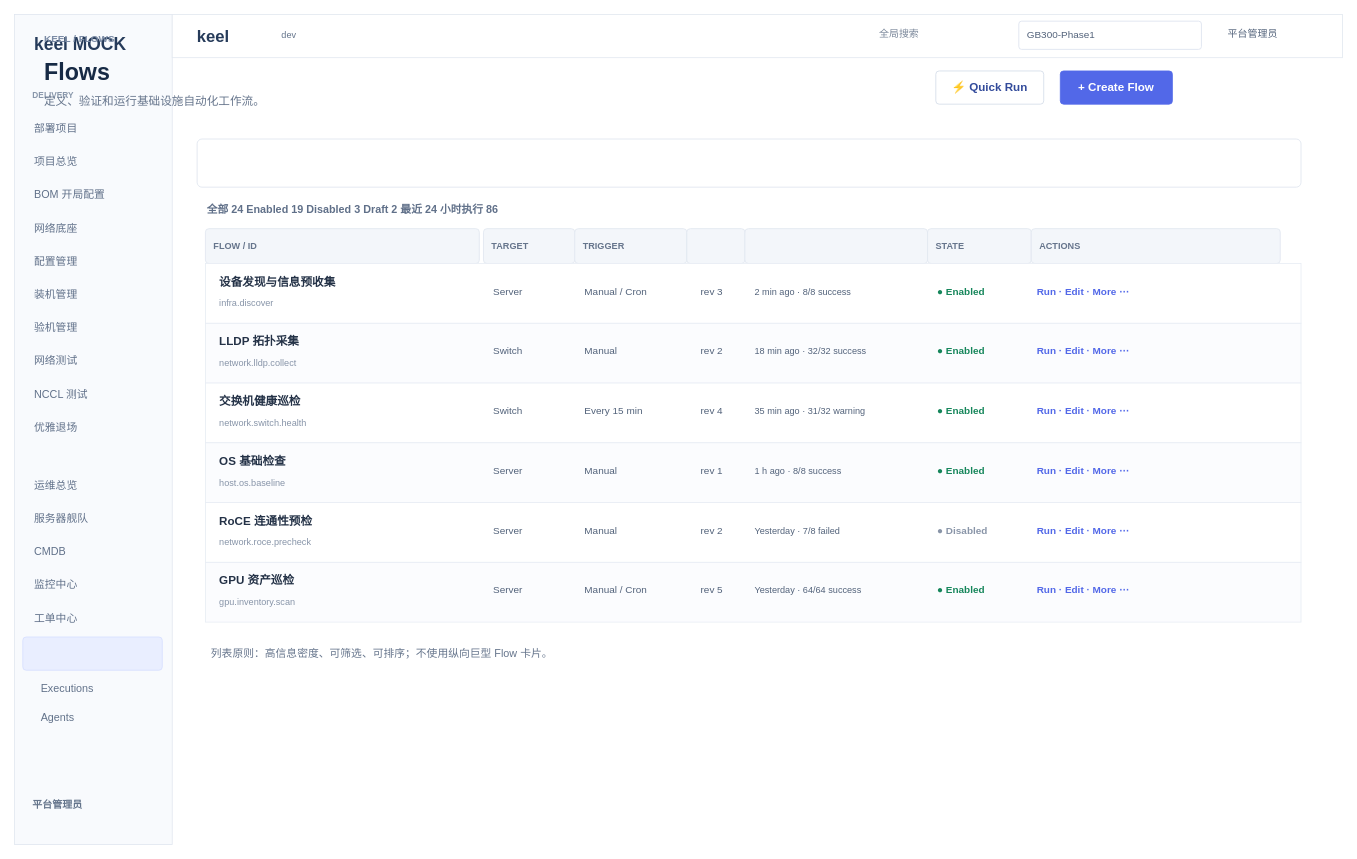
Image size: 1357x859. Some labels were removed from this diagram. The box of each missing label's shape, as (x1, y1, x2, y2) in pixels:
LAST EXECUTION: (744, 228, 928, 264)
REV: (686, 228, 745, 264)
⌕ 搜索 Flow 名称 / ID Namespace ▾ Target Type ▾ Trigger ▾ Status ▾ Tags ▾ 清除筛选: (196, 138, 1301, 187)
⌘ Flows: (22, 636, 162, 670)
